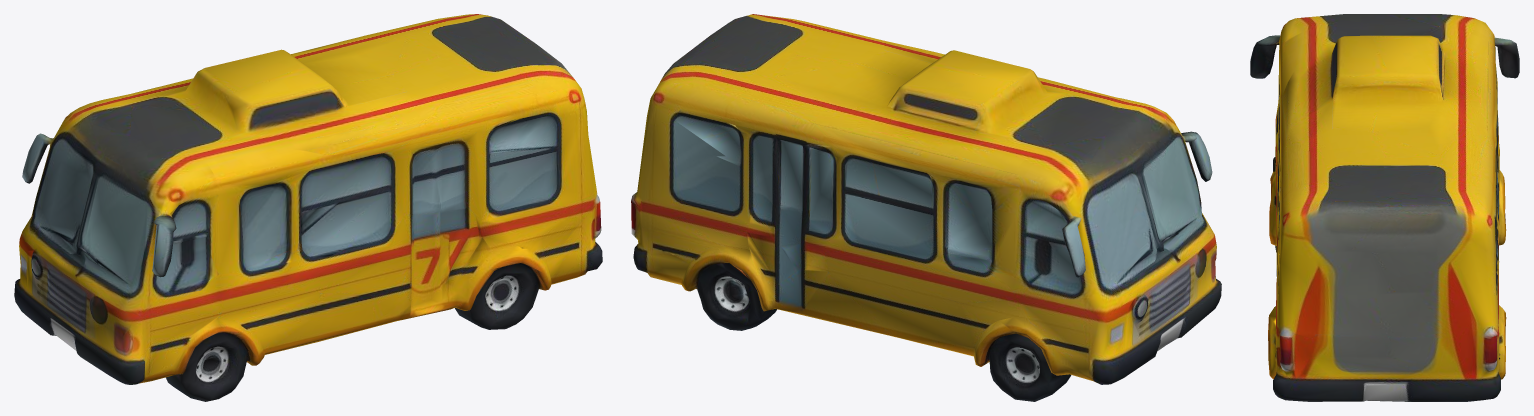
The model's file is bus.glb.
3 renders of one model, left to right at view 1: azimuth 30°, elevation 25°; view 2: azimuth 150°, elevation 25°; view 3: azimuth 270°, elevation 25°, orthographic. The views are drawn at different scales.
Parts seen in each view (by area): view 1: Mesh_0; view 2: Mesh_0; view 3: Mesh_0.
Part boxes in pixels (box(x1,y1,x2,y2)): Mesh_0: box(14, 14, 602, 401); Mesh_0: box(631, 14, 1221, 401); Mesh_0: box(1250, 14, 1519, 401).
Size of the model in its own units: 2 by 1.01 by 0.9809.
Materials: 1 (1 with a texture image).
